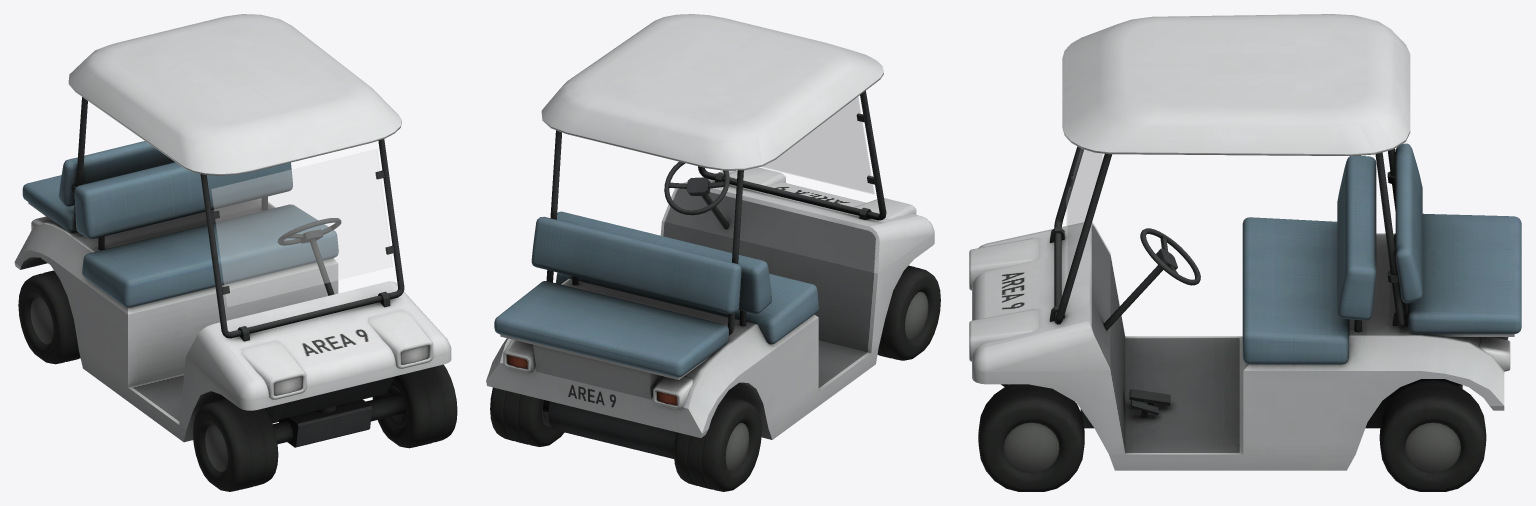
File: cart.glb
3 renders of one model, left to right at view 1: azimuth 30°, elevation 25°; view 2: azimuth 150°, elevation 25°; view 3: azimuth 270°, elevation 25°, orthographic. The views are drawn at different scales.
Parts seen in each view (by area): view 1: golfcart_0, golfcart_1; view 2: golfcart_0, golfcart_1; view 3: golfcart_0, golfcart_1.
Boxes of the visible parts, x1,y1,x2,y2 form: golfcart_0: (14, 14, 457, 491); golfcart_1: (211, 149, 392, 306); golfcart_0: (486, 14, 940, 491); golfcart_1: (761, 96, 874, 194); golfcart_0: (969, 14, 1521, 491); golfcart_1: (1066, 149, 1103, 280).
Size of the model in its own units: 2.32 by 3.17 by 4.3.
Materials: 2 (1 with a texture image).
